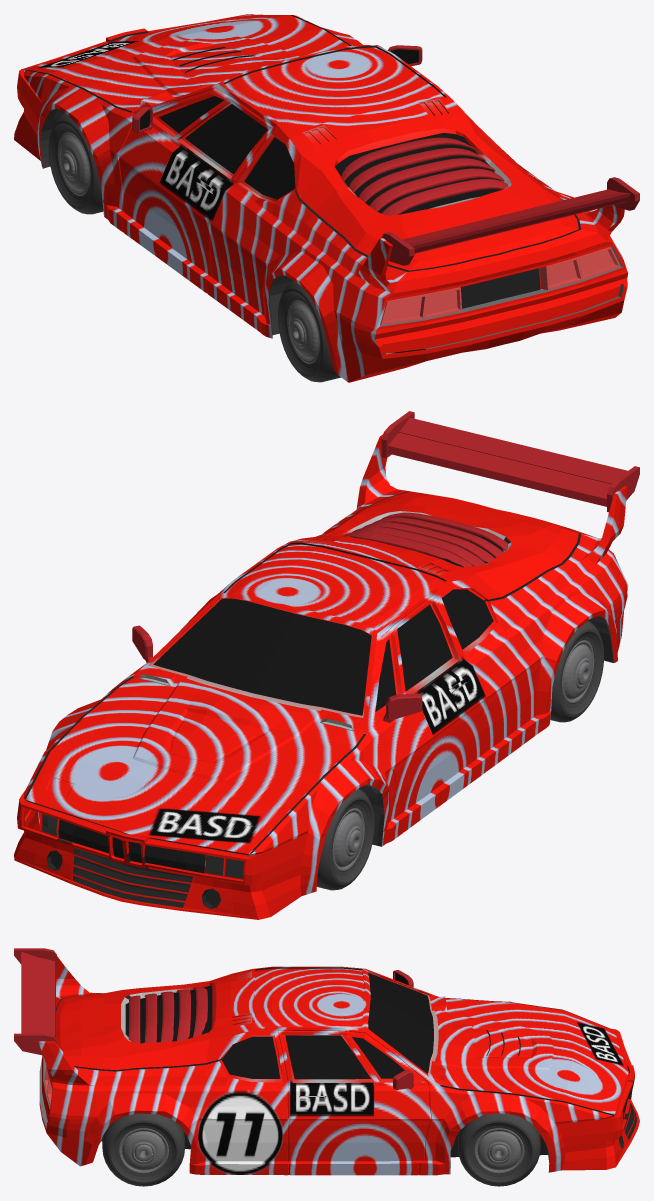
The model's file is BTW.glb.
3 renders of one model, top to bottom at view 1: azimuth 30°, elevation 25°; view 2: azimuth 150°, elevation 25°; view 3: azimuth 270°, elevation 25°, orthographic. The views are drawn at different scales.
Parts seen in each view (by area): view 1: BTW S1, Cube.013, Cube.008, Cube.001; view 2: BTW S1, Cube.013, Cube.001, Cube.008, Cube.017, Plane.008; view 3: BTW S1, Cube.007, Cube, Cube.013, Cube.005.
Boxes of the visible parts, x1=… form: BTW S1: x1=14, y1=14, x2=639, y2=382; Cube.013: x1=341, y1=137, x2=508, y2=215; Cube.008: x1=278, y1=281, x2=340, y2=382; Cube.001: x1=48, y1=113, x2=103, y2=214; BTW S1: x1=14, y1=411, x2=639, y2=919; Cube.013: x1=343, y1=512, x2=508, y2=567; Cube.001: x1=316, y1=788, x2=374, y2=890; Cube.008: x1=550, y1=621, x2=604, y2=722; Cube.017: x1=383, y1=693, x2=422, y2=722; Plane.008: x1=42, y1=825, x2=379, y2=878; BTW S1: x1=14, y1=948, x2=639, y2=1175; Cube.007: x1=102, y1=1113, x2=184, y2=1186; Cube: x1=458, y1=1113, x2=540, y2=1186; Cube.013: x1=128, y1=987, x2=207, y2=1042; Cube.005: x1=393, y1=1070, x2=413, y2=1089.
Bounding box in the file's own units: 1.62 × 0.983 × 3.86.
4 materials, 3 textured.
